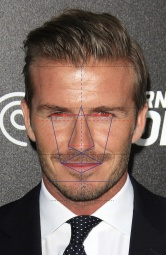Forehead: (31, 54, 132, 110)
